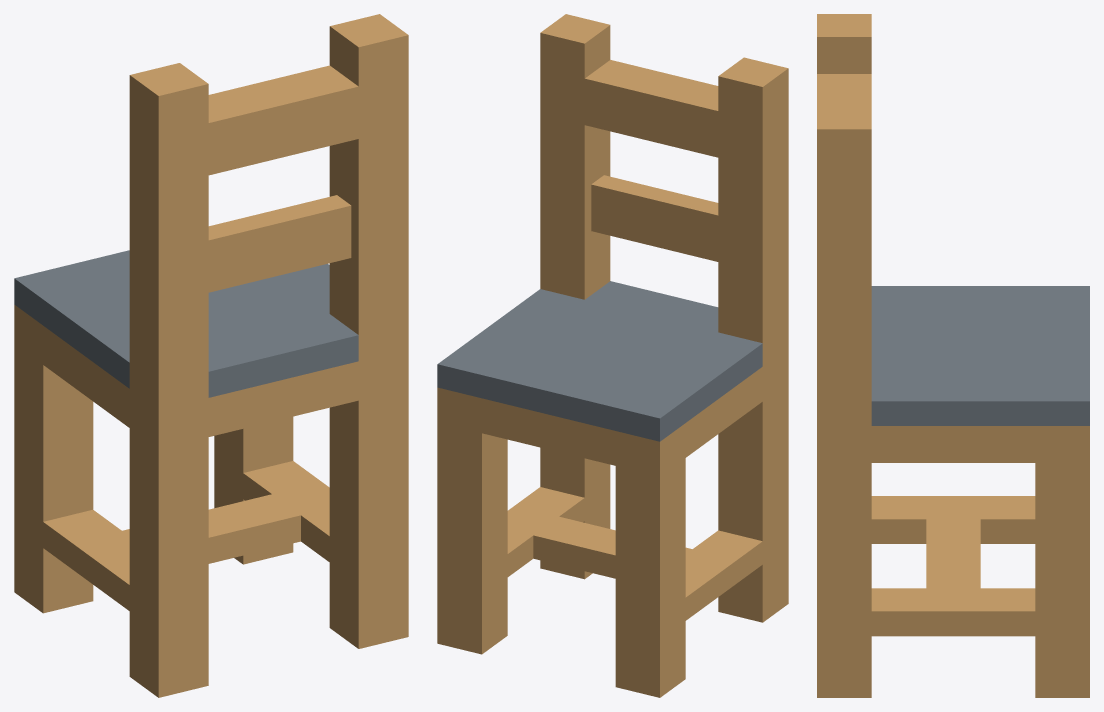
File: chair.obj
The picture shows the model from 3 angles, left to right: view 1: azimuth 30°, elevation 25°; view 2: azimuth 150°, elevation 25°; view 3: azimuth 270°, elevation 25°; orthographic projection. The views are drawn at different scales.
Parts seen in each view (by area): view 1: chairCushion; view 2: chairCushion; view 3: chairCushion.
Part boxes in pixels (bbox=[...]): chairCushion: bbox=[14, 14, 408, 697]; chairCushion: bbox=[437, 14, 788, 697]; chairCushion: bbox=[817, 14, 1089, 697].
Bounding box in the file's own units: 2 × 4.6 × 2.
